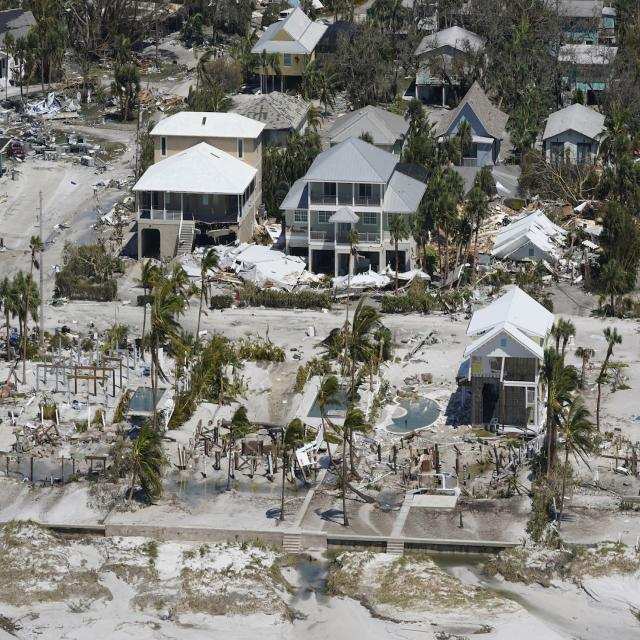Hurricane: (4, 219, 637, 636)
